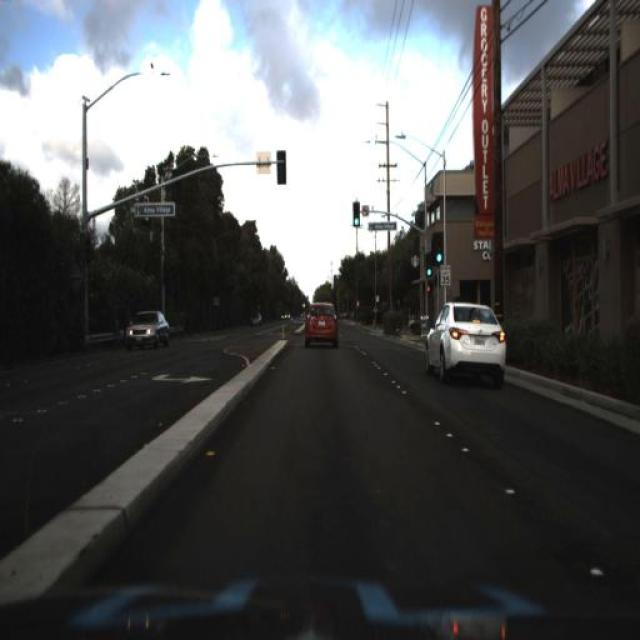car: (424, 294, 507, 390), (119, 306, 173, 352), (296, 298, 342, 352)
trafficLight-GreenLeft: (348, 204, 363, 234), (434, 242, 444, 268), (424, 264, 434, 282)
